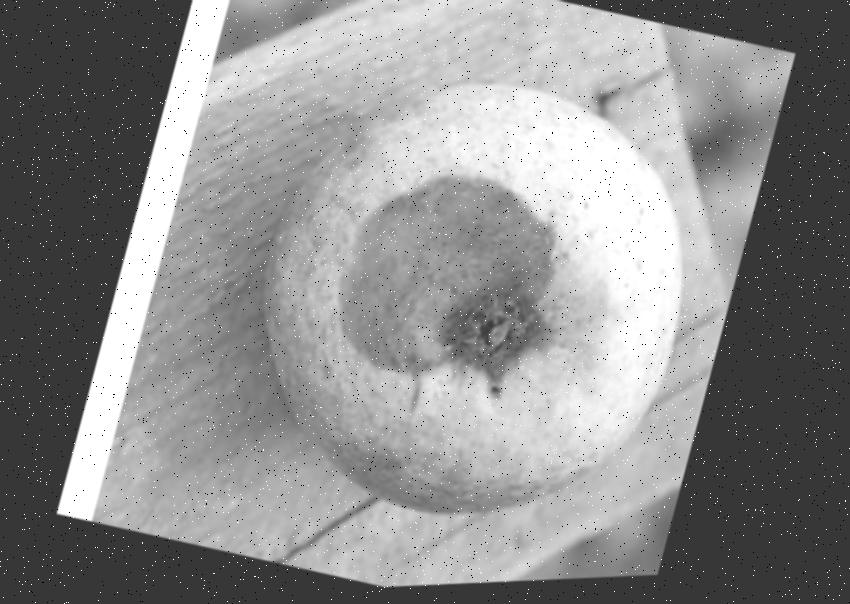ROT: (153, 8, 727, 597)
